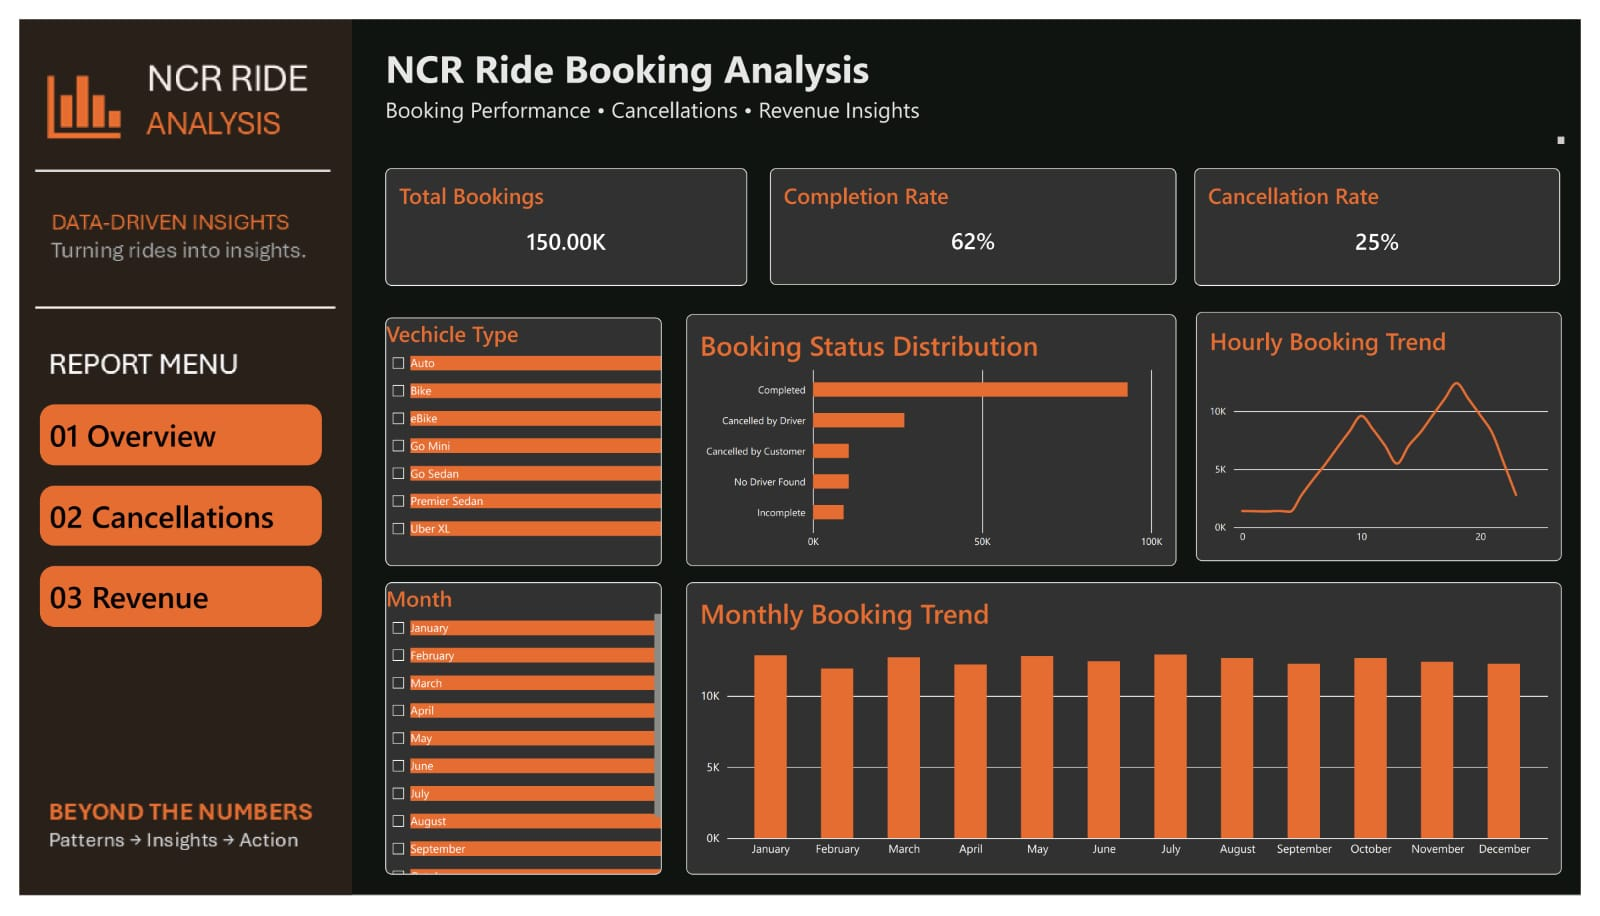

This screenshot's page, from the dashboard's own definition file:
{"tool":"powerbi","page":{"name":"Page 1","canvas":[1920,1080],"ordinal":0},"visuals":[{"type":"card","title":"Total Bookings","fields":{"Values":["CountNonNull(uber_ride_cleaned.Booking ID)"]},"box":[450,182.5,445,145],"z":1000},{"type":"card","title":"Completion Rate","fields":{"Values":["uber_ride_cleaned.Completion Rate"]},"box":[923.3,183.3,500,143.3],"z":2000},{"type":"card","title":"Cancellation Rate","fields":{"Values":["uber_ride_cleaned.Cancellation Rate"]},"box":[1445,182.5,450,145],"z":3000},{"type":"clusteredBarChart","title":"Booking Status Distribution","fields":{"Category":["uber_ride_cleaned.Booking Status"],"Y":["CountNonNull(uber_ride_cleaned.Booking ID)"]},"box":[820,363.3,603.3,310],"z":4000},{"type":"lineChart","title":"Hourly Booking Trend","fields":{"Category":["uber_ride_cleaned.Hour"],"Y":["CountNonNull(uber_ride_cleaned.Booking ID)"]},"box":[1446.7,360,450,306.7],"z":5000},{"type":"clusteredColumnChart","title":"Monthly Booking Trend","fields":{"Category":["uber_ride_cleaned.Date.Variation.Date Hierarchy.Month"],"Y":["CountNonNull(uber_ride_cleaned.Booking ID)"]},"box":[820,693.3,1076.7,360],"z":6000},{"type":"slicer","title":"Vechicle Type","fields":{"Values":["uber_ride_cleaned.Vehicle Type"]},"box":[450,366.7,340,306.7],"z":7000},{"type":"slicer","title":"Month","fields":{"Values":["uber_ride_cleaned.Date.Variation.Date Hierarchy.Month"]},"box":[450,693.3,340,360],"z":8000},{"type":"textbox","title":"NCR Ride Booking Analysis","box":[450,27.5,1450,125],"z":9000},{"type":"actionButton","box":[24.8,474.5,347.6,74.5],"z":9001},{"type":"actionButton","box":[24.8,673.1,347.6,74.5],"z":9002},{"type":"actionButton","box":[24.8,573.8,347.6,74.5],"z":9003}]}

Visuals, with their boxes in screenshot pixels (x1, y1, x2, y2), scaled from the page's 1920x1080 canvas onto the 1600x916 screenshot:
"Total Bookings" card: crop(375, 155, 746, 278)
"Completion Rate" card: crop(769, 155, 1186, 277)
"Cancellation Rate" card: crop(1204, 155, 1579, 278)
"Booking Status Distribution" clusteredBarChart: crop(683, 308, 1186, 571)
"Hourly Booking Trend" lineChart: crop(1206, 305, 1581, 565)
"Monthly Booking Trend" clusteredColumnChart: crop(683, 588, 1581, 893)
"Vechicle Type" slicer: crop(375, 311, 658, 571)
"Month" slicer: crop(375, 588, 658, 893)
"NCR Ride Booking Analysis" textbox: crop(375, 23, 1583, 129)
actionButton: crop(21, 402, 310, 466)
actionButton: crop(21, 571, 310, 634)
actionButton: crop(21, 487, 310, 550)
